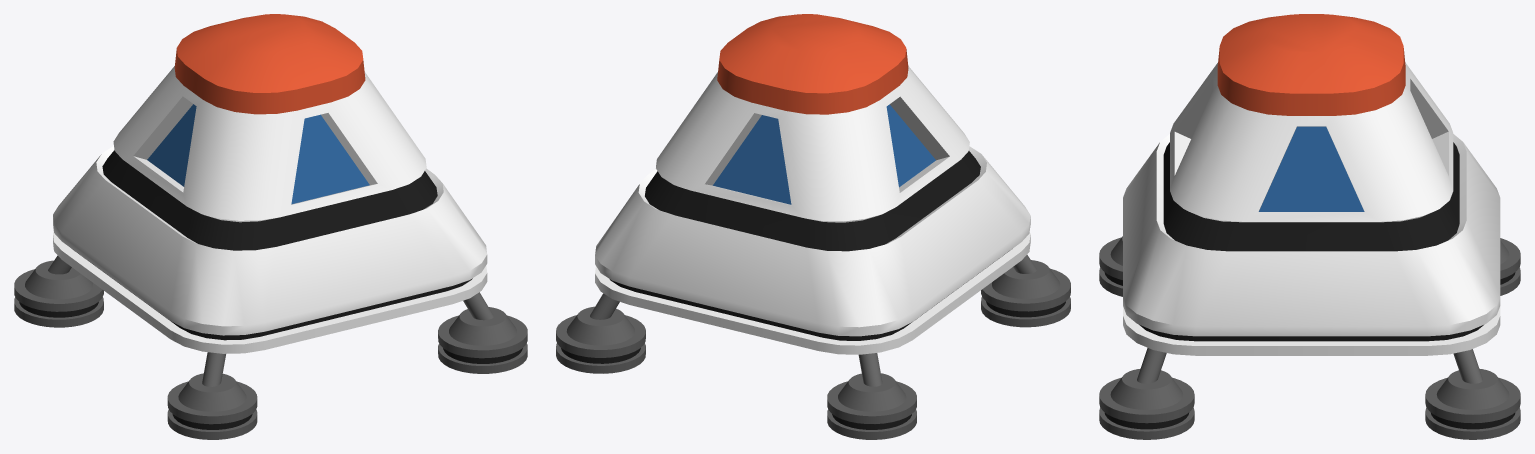
The model's file is space_pod.fbx.
3 views of the same model, side by side, from view 1: azimuth 30°, elevation 25°; view 2: azimuth 150°, elevation 25°; view 3: azimuth 270°, elevation 25° (orthographic). The views are drawn at different scales.
Visible parts, largest first — view 1: Cube.029; view 2: Cube.029; view 3: Cube.029.
Boxes of the visible parts, x1,y1,x2,y2 form: Cube.029: (14, 14, 527, 439); Cube.029: (556, 14, 1070, 439); Cube.029: (1099, 14, 1520, 439).
Bounding box in the file's own units: 528 × 432 × 521.
